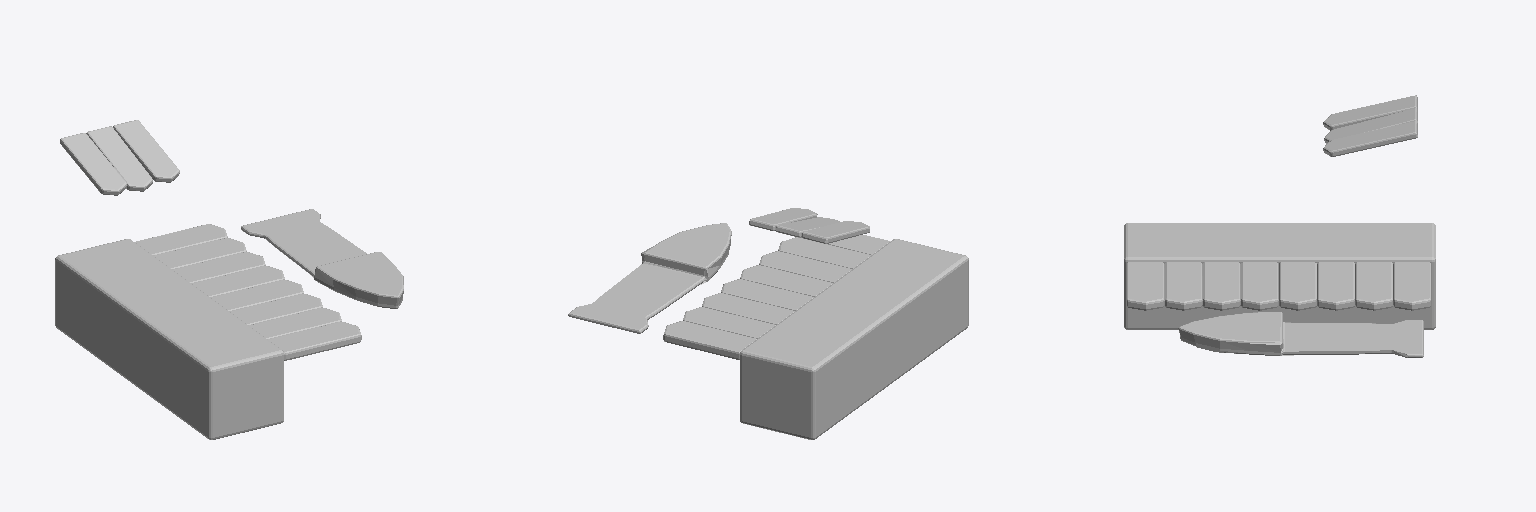
File: outdoor_texter_selection2.obj
The picture shows the model from 3 angles: view 1: azimuth 30°, elevation 25°; view 2: azimuth 150°, elevation 25°; view 3: azimuth 270°, elevation 25°; orthographic projection.
Visible parts, largest first — view 1: pCube29, boat_floor group1, board_1 dock_bords, dock_bords board_30, dock_bords board_19, dock_bords board_29, dock_bords board_24, dock_bords board_25, dock_bords board_26, dock_bords board_28, dock_bords board_23, dock_bords board_27 (+1 smaller); view 2: pCube29, boat_floor group1, dock_bords board_28, dock_bords board_23, dock_bords board_25, dock_bords board_24, dock_bords board_26, dock_bords board_27, dock_bords board_22, dock_bords board_30, dock_bords board_19, board_1 dock_bords (+1 smaller); view 3: pCube29, boat_floor group1, dock_bords board_26, dock_bords board_23, dock_bords board_24, dock_bords board_25, dock_bords board_27, dock_bords board_22, dock_bords board_28, board_1 dock_bords, dock_bords board_19, dock_bords board_30 (+1 smaller).
Part boxes in pixels (x1,y1,x2,y2): pCube29: (55, 239, 283, 439); boat_floor group1: (241, 209, 403, 308); board_1 dock_bords: (268, 322, 361, 360); dock_bords board_30: (60, 133, 126, 195); dock_bords board_19: (113, 120, 179, 182); dock_bords board_29: (86, 126, 152, 191); dock_bords board_24: (211, 280, 303, 311); dock_bords board_25: (192, 266, 284, 297); dock_bords board_26: (173, 252, 265, 283); dock_bords board_28: (135, 224, 227, 255); dock_bords board_23: (230, 294, 322, 325); dock_bords board_27: (154, 238, 246, 269); pCube29: (740, 239, 968, 439); boat_floor group1: (568, 223, 731, 333); dock_bords board_28: (663, 321, 756, 359); dock_bords board_23: (759, 251, 851, 282); dock_bords board_25: (721, 279, 813, 310); dock_bords board_24: (740, 265, 832, 296); dock_bords board_26: (702, 293, 794, 324); dock_bords board_27: (683, 307, 775, 338); dock_bords board_22: (778, 237, 870, 268); dock_bords board_30: (802, 221, 869, 243); dock_bords board_19: (749, 208, 817, 230); board_1 dock_bords: (803, 235, 890, 254); pCube29: (1124, 223, 1435, 329); boat_floor group1: (1178, 312, 1423, 357); dock_bords board_26: (1317, 262, 1354, 310); dock_bords board_23: (1203, 262, 1240, 310); dock_bords board_24: (1241, 262, 1278, 310); dock_bords board_25: (1279, 262, 1316, 310); dock_bords board_27: (1355, 262, 1392, 310); dock_bords board_22: (1165, 262, 1202, 310); dock_bords board_28: (1393, 262, 1430, 310); board_1 dock_bords: (1127, 262, 1164, 310); dock_bords board_19: (1323, 121, 1417, 156); dock_bords board_30: (1323, 95, 1417, 130).
Bounding box in the file's own units: 22.4 × 16.49 × 23.55.